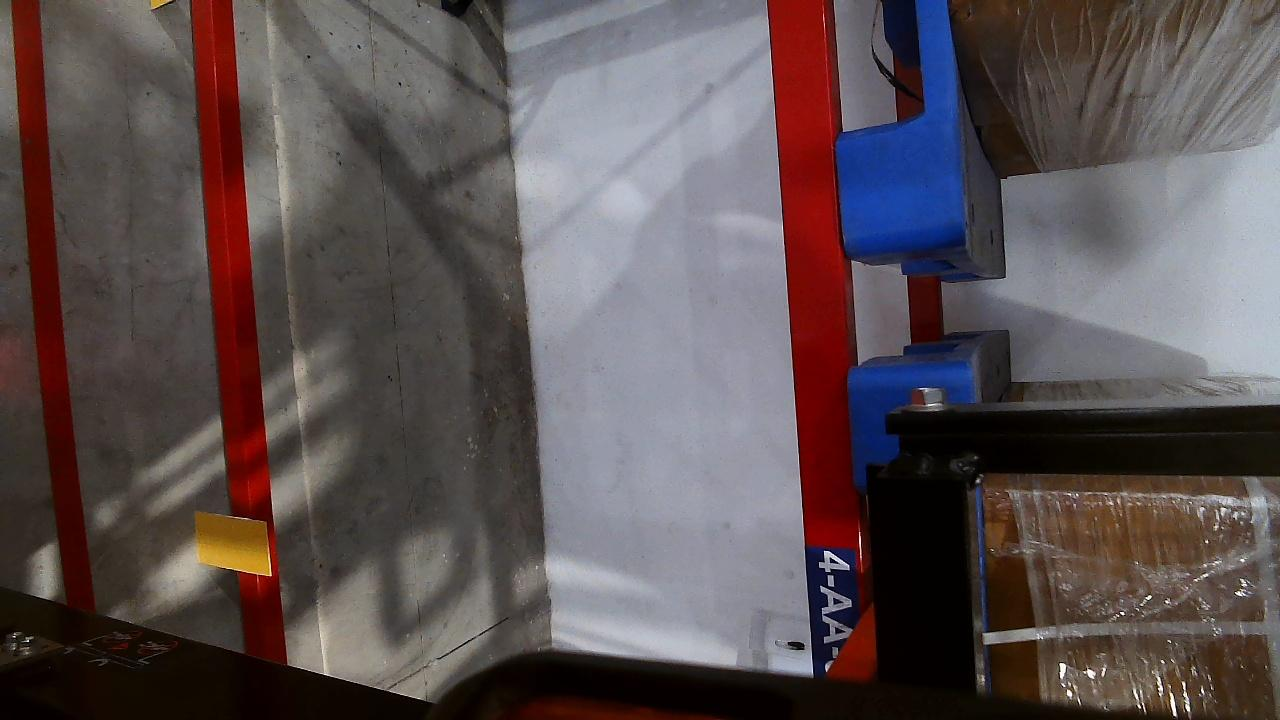h_rack: (764, 0, 860, 665), (192, 2, 286, 665)
orange_strip: (193, 513, 271, 575)
red_line: (7, 1, 86, 601)
small_pallet: (824, 0, 968, 243)
